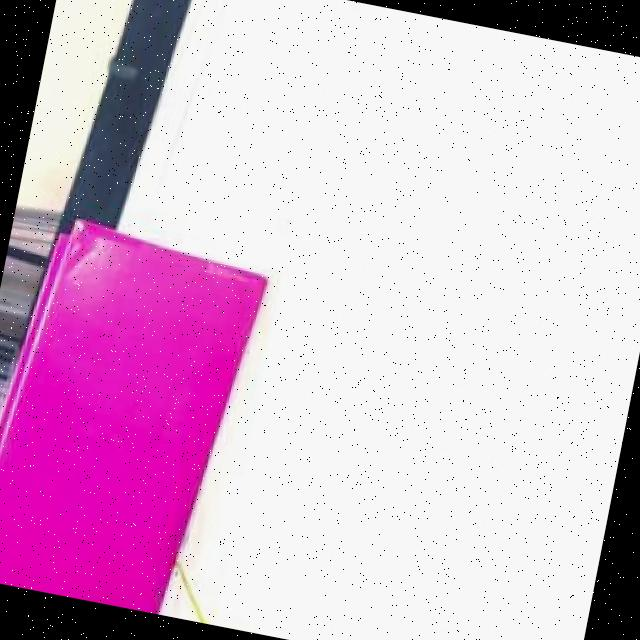xparking: (0, 222, 252, 619)
